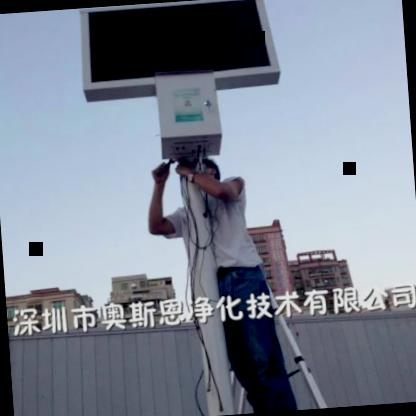head: (190, 151, 224, 202)
